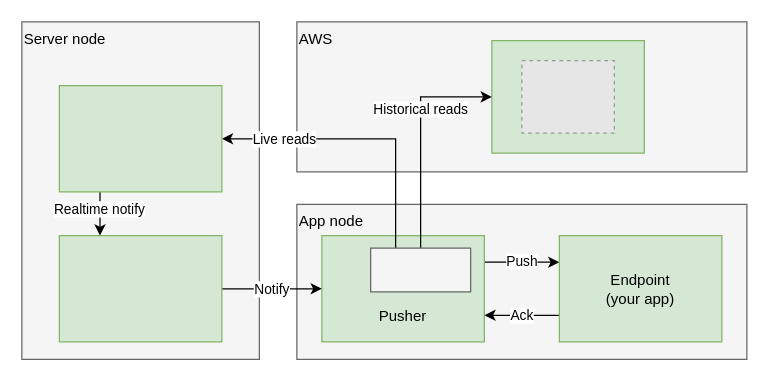
The diagram is 769 pixels wide and 381 high, and some of its shapes have lost their labels. Grey dashed boxes stand in for pictures. The shapes that lost their labels are listed below. From the top down, each one's centre as x and y in pixels, then its label:
the point at 140,138: Writer
the point at 140,288: Pub/sub
the point at 420,269: Reader
